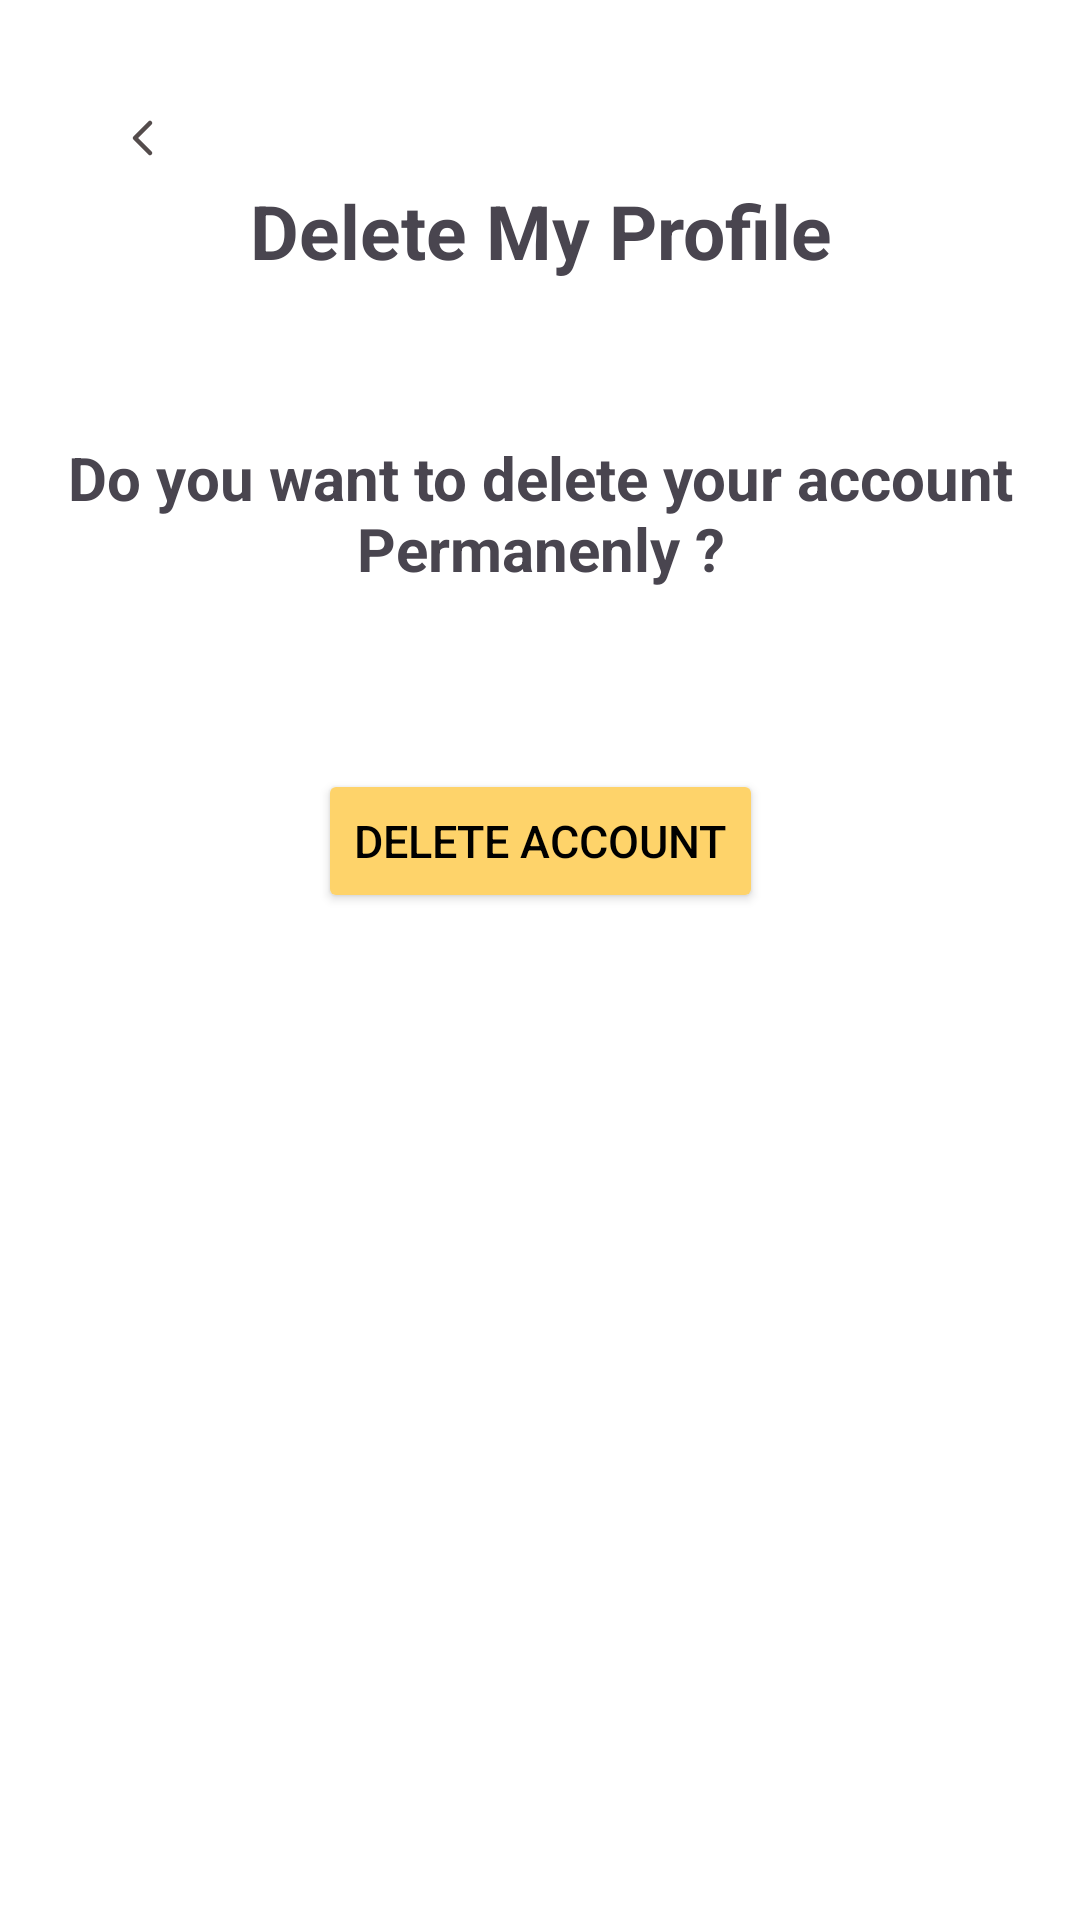

Screen size 1080 × 1920. Icon name, then its center in pixels as point (x, y):
leftdirect: point (142, 138)
